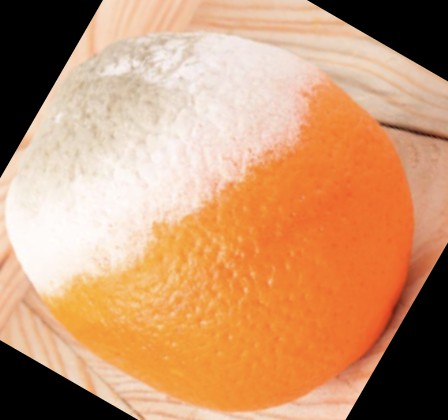rotten_orange: (5, 31, 414, 411)
